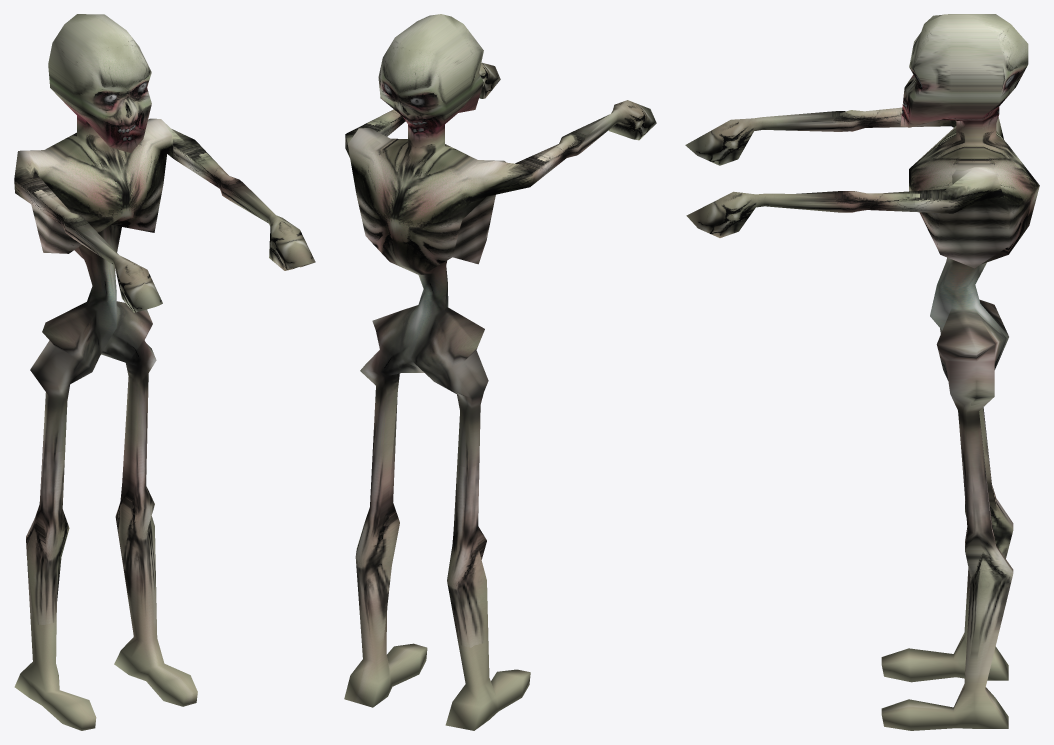
File: MiniZombie.FBX
3 views of the same model, side by side, from view 1: azimuth 30°, elevation 25°; view 2: azimuth 150°, elevation 25°; view 3: azimuth 270°, elevation 25° (orthographic). The views are drawn at different scales.
Visible parts, largest first — view 1: Box02; view 2: Box02; view 3: Box02.
Boxes of the visible parts, x1,y1,x2,y2 form: Box02: [14, 14, 315, 730]; Box02: [344, 14, 656, 730]; Box02: [685, 14, 1039, 730].
Bounding box in the file's own units: 276 × 962 × 450.
Materials: 1 (1 with a texture image).
